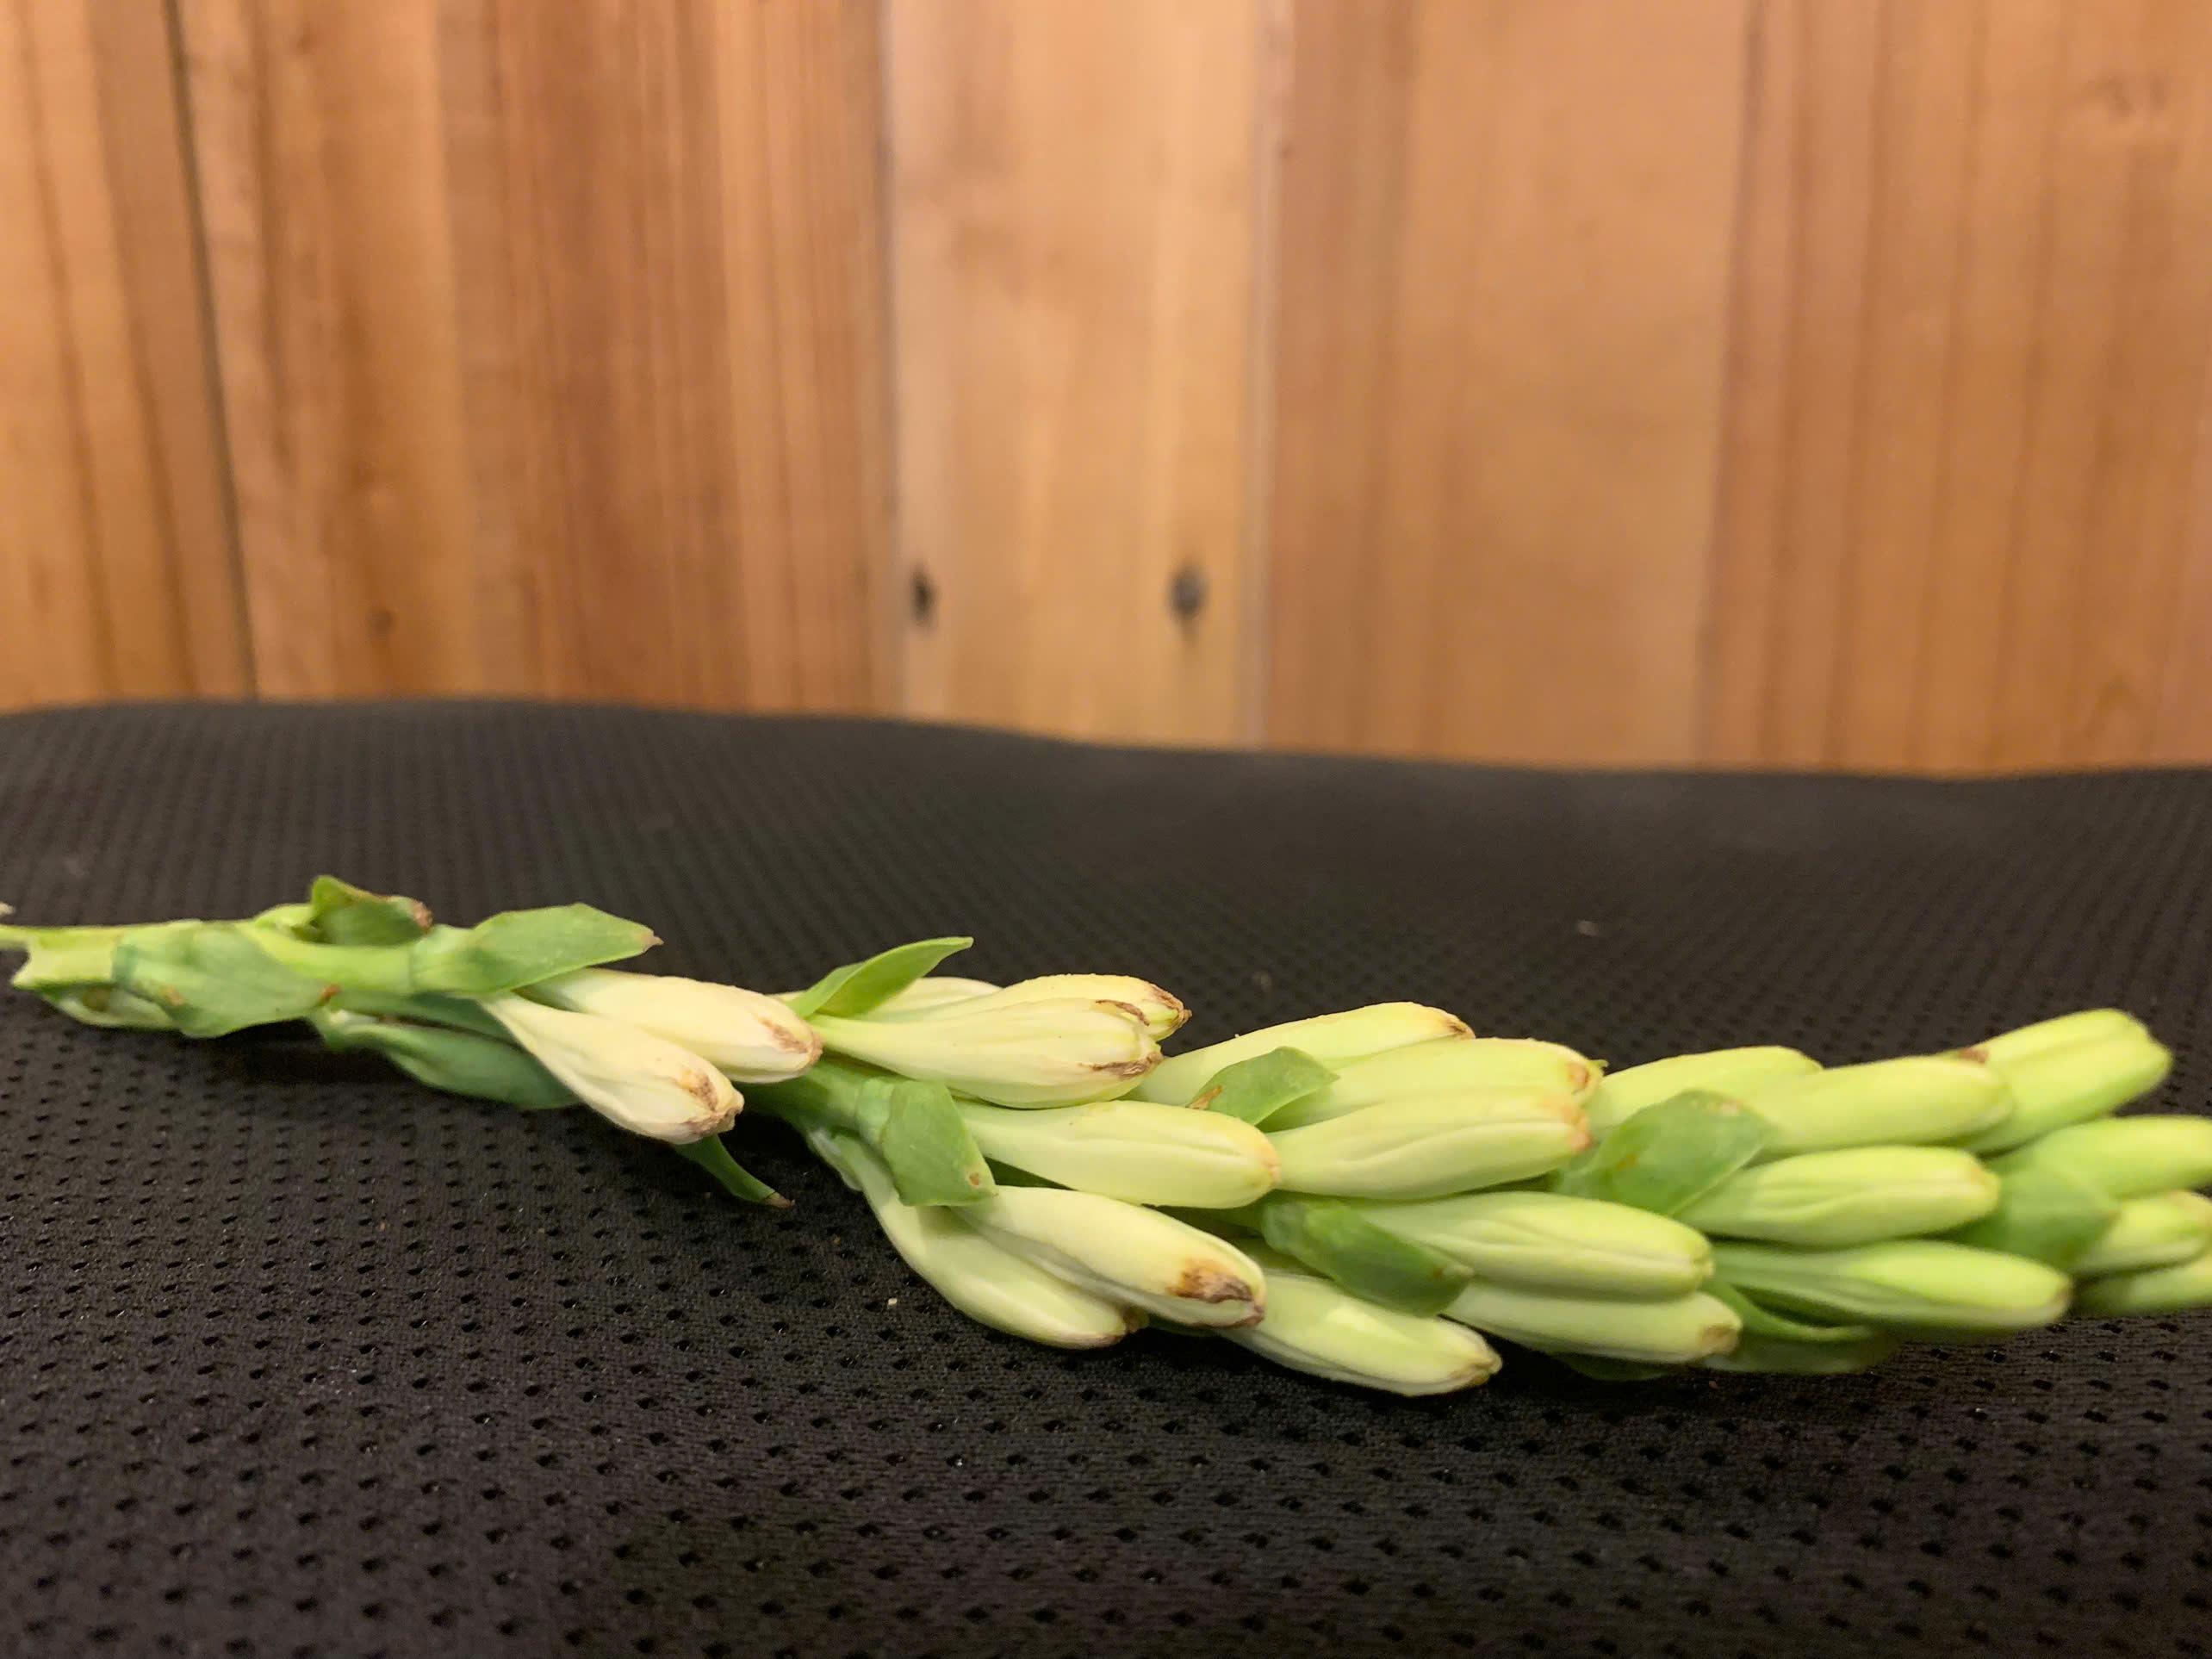Huu co: (9, 882, 2212, 1396)
